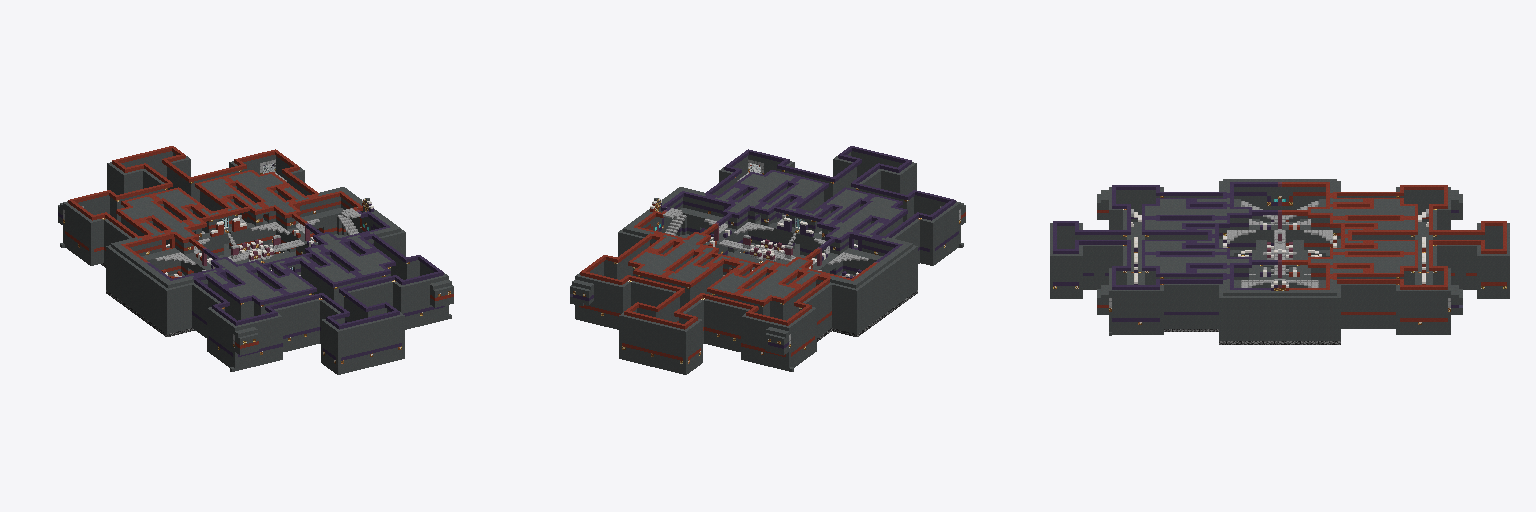
3 views of the same model, side by side, from view 1: azimuth 30°, elevation 25°; view 2: azimuth 150°, elevation 25°; view 3: azimuth 270°, elevation 25° (orthographic).
Size of the model in its own units: 75 by 18 by 125.
20 materials, 19 textured.